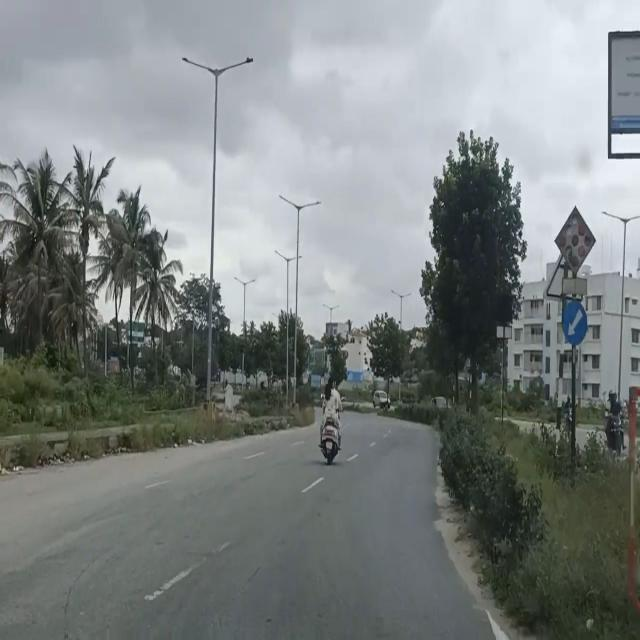bien_cam: (562, 294, 588, 351)
